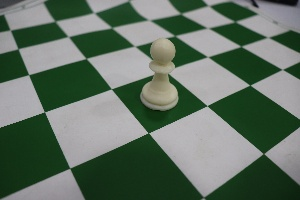white_pawn: (132, 29, 186, 119)
